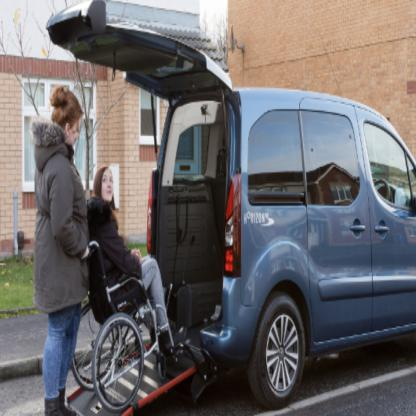wheelchair: (70, 169, 188, 410)
